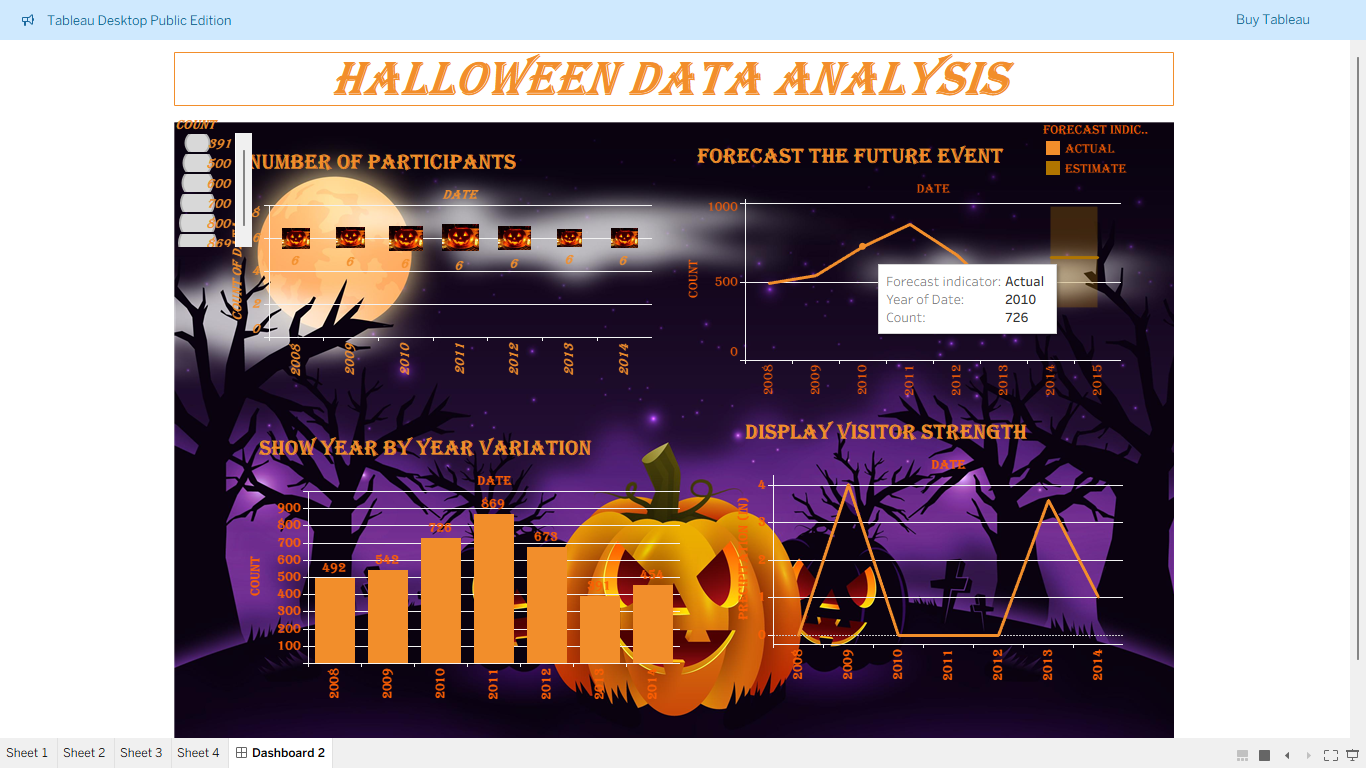

This screenshot's page, from the dashboard's own definition file:
{"tool":"tableau","page":{"name":"Dashboard 2","canvas":[1000,1000],"units":"permille","ordinal":1},"visuals":[{"type":"title","box":[6.9,9.5,986.1,41.5]},{"type":"image","param":"Image/ChatGPT Image Feb 10, 2026, 08_48_40 PM.png","box":[6.9,51,986.1,939.6]},{"type":"worksheet","title":"Sheet 2","mark":"Automatic","rows":["Count"],"cols":["Date"],"box":[455.3,123.7,325.8,338.2]},{"type":"worksheet","title":"Sheet 1","mark":"Shape","rows":["Data_4752338C4E4D48818CBBEE82CF7439A9"],"cols":["Date"],"box":[59.1,138.2,360.6,327.6]},{"type":"legend","title":"Sheet 1","param":"[federated.0gwcla01q3osgo159b5lu1so599q].[sum:Count:qk]","box":[369.7,160.6,106.1,209.1]},{"type":"legend","title":"Sheet 2","param":"[federated.0gwcla01q3osgo159b5lu1so599q].[none:Forecast Indicator:nk]","box":[705.3,160.6,106.1,87.9]},{"type":"worksheet","title":"Sheet 4","mark":"Automatic","rows":["Precipitation (in)"],"cols":["Date"],"box":[468.2,489.5,307.6,348.7]},{"type":"worksheet","title":"Sheet 3","mark":"Bar","rows":["Count"],"cols":["Date"],"box":[49.2,510.5,383.3,352.6]}]}

Visuals, with their boxes on the dashboard's canvas, which has no fixed pixel size, in thousandths of its width and height (x1, y1, x2, y2). These are canvas units, not pixel positions in the 1366x768 screenshot, which may show the page scaled, cropped or inside an application window:
title: <box>7,10,993,51</box>
image: <box>7,51,993,991</box>
"Sheet 2" worksheet: <box>455,124,781,462</box>
"Sheet 1" worksheet (Shape marks): <box>59,138,420,466</box>
"Sheet 1" legend: <box>370,161,476,370</box>
"Sheet 2" legend: <box>705,161,811,248</box>
"Sheet 4" worksheet: <box>468,490,776,838</box>
"Sheet 3" worksheet (Bar marks): <box>49,510,432,863</box>
